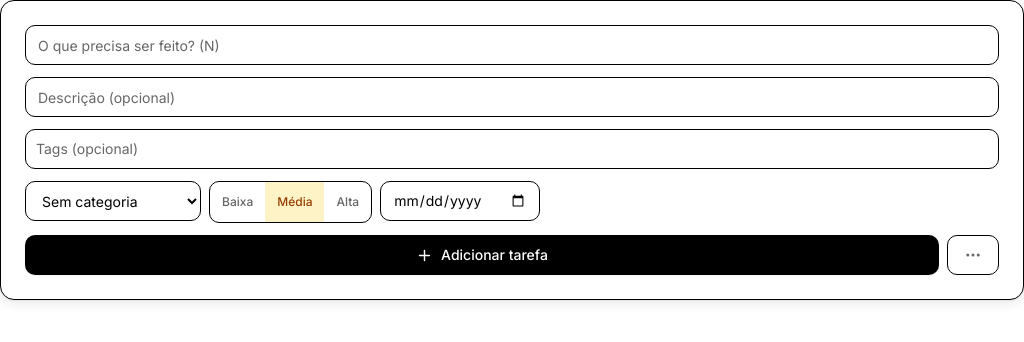
Scenario: AddTaskForm › shows an inline error instead of submitting empty
The image size is (1024, 342).
Click the button "Adicionar tarefa": (482, 255) top-left (25, 235), bottom-right (939, 275)
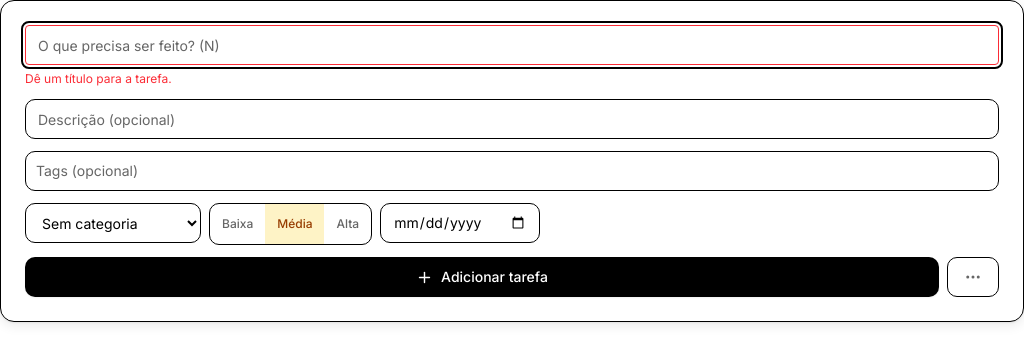
expect the message shows "título": met, box top-left (25, 71), bottom-right (172, 86)
